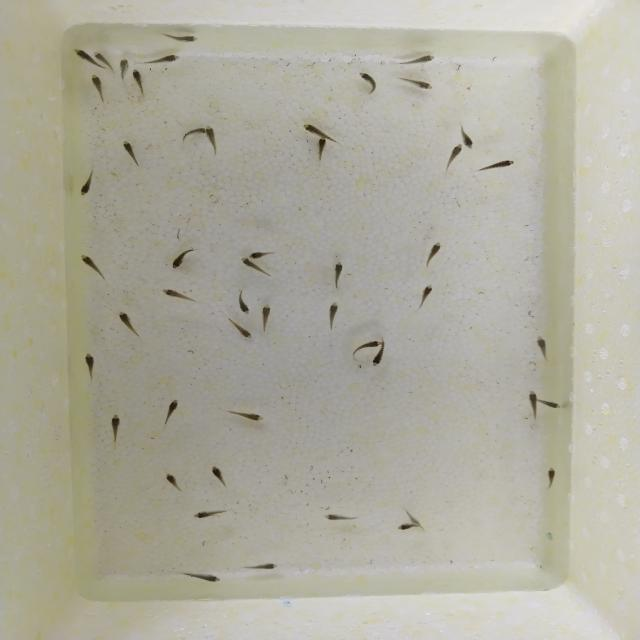fingerling: (157, 286, 201, 308), (220, 404, 268, 424), (80, 252, 108, 284), (356, 71, 382, 103), (181, 568, 229, 585), (160, 471, 187, 498), (420, 238, 442, 270), (302, 120, 340, 138), (346, 337, 377, 359), (106, 412, 128, 442), (116, 307, 135, 339), (170, 245, 193, 270), (76, 172, 98, 198), (163, 393, 179, 428), (395, 77, 438, 90), (480, 159, 517, 174), (544, 463, 560, 497), (326, 301, 344, 331), (91, 74, 110, 100), (122, 141, 141, 167), (131, 67, 148, 96), (457, 121, 474, 150), (143, 54, 184, 66), (235, 288, 252, 316), (186, 510, 233, 520), (207, 125, 223, 154), (229, 323, 255, 340), (179, 125, 202, 144), (82, 353, 101, 376), (446, 141, 461, 170), (243, 257, 261, 281), (209, 460, 227, 484), (329, 262, 346, 287), (369, 348, 388, 370), (316, 512, 362, 521), (72, 48, 92, 68), (526, 390, 539, 420), (404, 56, 442, 66), (537, 334, 549, 365), (314, 138, 332, 158), (248, 560, 280, 571), (162, 33, 198, 42), (260, 304, 272, 330), (246, 251, 276, 261), (540, 398, 560, 413), (94, 50, 109, 67), (119, 56, 130, 76), (406, 510, 421, 524), (421, 283, 432, 301), (395, 523, 417, 532)
